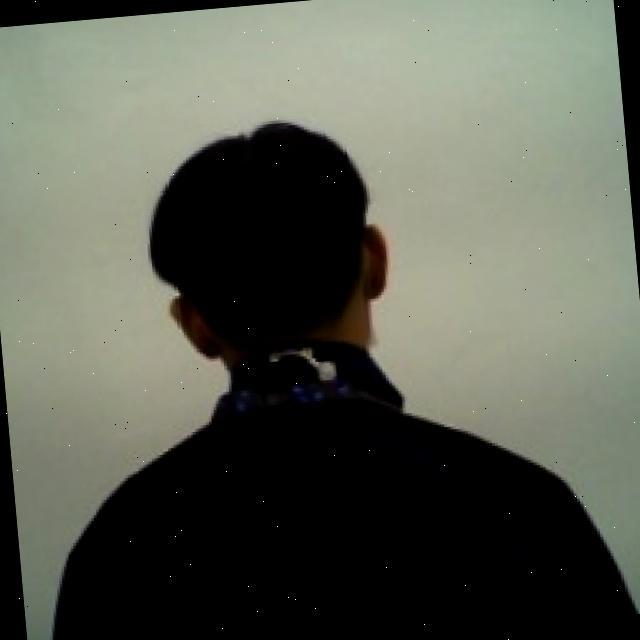no_gloves: (136, 103, 401, 380)
